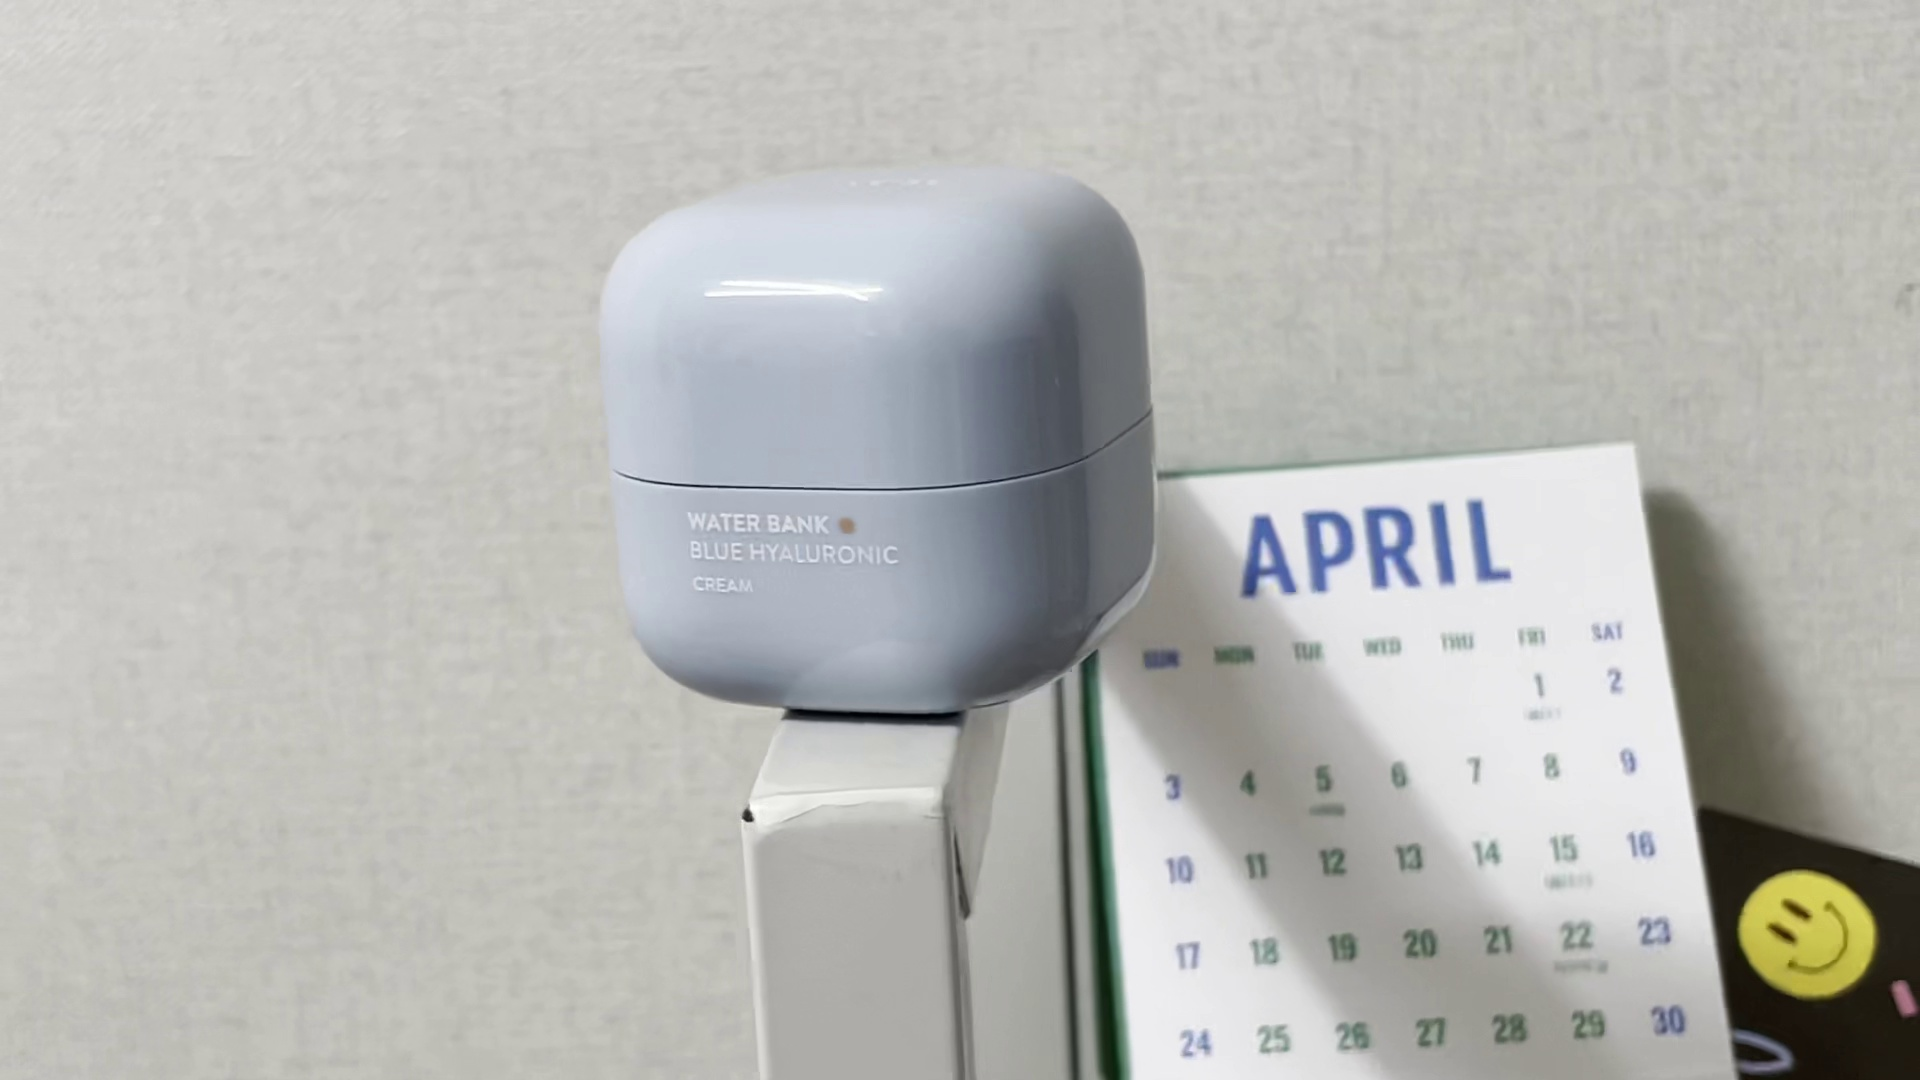cream: (595, 154, 1168, 719)
